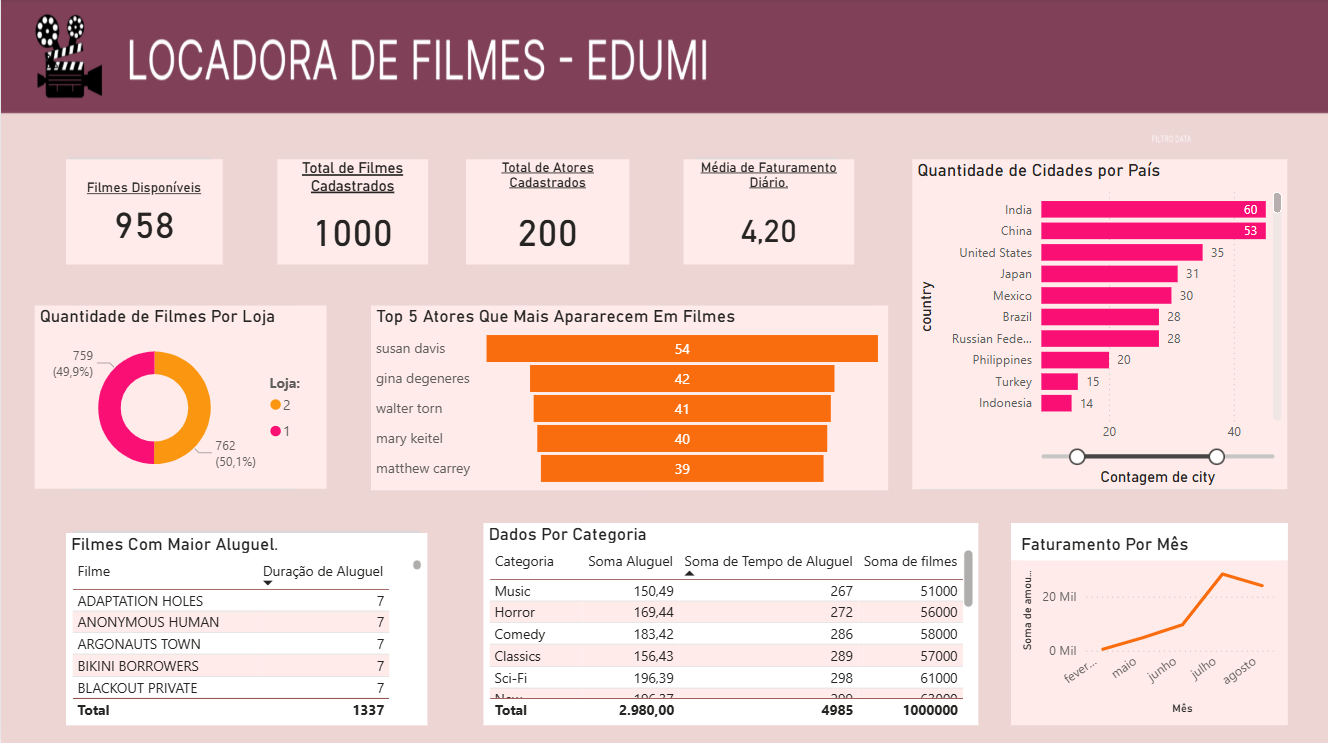

The dashboard page shown, as its layout file describes it:
{"tool":"powerbi","page":{"name":"LOCADORA","canvas":[1280,720],"ordinal":0},"visuals":[{"type":"card","title":"Total de Atores Cadastrados","fields":{"Values":["select","CountNonNull(edumi actor.actor_id)"]},"box":[448.7,155.1,157.8,101.5],"z":0},{"type":"card","title":"Total de Filmes Cadastrados","fields":{"Values":["Count(edumi film.film_id)"]},"box":[266.2,155.1,145.5,101.5],"z":1000},{"type":"card","title":"Filmes Disponíveis","fields":{"Values":["edumi inventory.qnt_Filme"]},"box":[63.1,155.1,150.9,101.5],"z":2000},{"type":"donutChart","title":"Quantidade de Filmes Por Loja","fields":{"Y":["edumi inventory.qnt_Filme"],"Category":["edumi inventory.store_id"]},"box":[32.9,297.1,281.4,177.1],"z":3000},{"type":"funnel","title":"Top 5 Atores Que Mais Apararecem Em Filmes","fields":{"Category":["edumi actor.full_name"],"Y":["edumi film_actor.DIST.FILME"]},"box":[356.8,296.4,499.5,178.4],"z":4000},{"type":"clusteredBarChart","title":"Quantidade de Cidades por País","fields":{"Category":["edumi country.country"],"Y":["CountNonNull(edumi city.city)"]},"box":[880,155.7,361.4,318.6],"z":5000},{"type":"tableEx","title":"Dados Por Categoria","fields":{"Values":["edumi category.name","Sum(edumi film.rental_rate)","Sum(edumi film.rental_duration)","Sum(edumi film.Film_qnt)"]},"box":[465.2,506.3,477.5,194.9],"z":6000},{"type":"tableEx","title":"Filmes Com Maior Aluguel.","fields":{"Values":["edumi film.title","Sum(edumi film.rental_duration)"]},"box":[63.1,516,348.5,185.2],"z":7000},{"type":"lineChart","title":"Faturamento Por Mês","fields":{"Y":["Sum(edumi payment.amount)"],"Category":["edumi payment.payment_date.Variation.Hierarquia de datas.Mês"]},"box":[974.3,506.3,267.6,194.9],"z":8000},{"type":"card","title":"Média de Faturamento Diário.","fields":{"Values":["Avg(edumi payment.amount)"]},"box":[658.7,155.1,164.7,101.5],"z":9000}]}

Visuals, with their boxes in screenshot pixels (x1, y1, x2, y2), scaled from the page's 1280x720 canvas onto the 1328x743 screenshot:
"Total de Atores Cadastrados" card: 466, 160, 629, 265
"Total de Filmes Cadastrados" card: 276, 160, 427, 265
"Filmes Disponíveis" card: 65, 160, 222, 265
"Quantidade de Filmes Por Loja" donutChart: 34, 307, 326, 489
"Top 5 Atores Que Mais Apararecem Em Filmes" funnel: 370, 306, 888, 490
"Quantidade de Cidades por País" clusteredBarChart: 913, 161, 1288, 489
"Dados Por Categoria" tableEx: 483, 522, 978, 724
"Filmes Com Maior Aluguel." tableEx: 65, 532, 427, 724
"Faturamento Por Mês" lineChart: 1011, 522, 1288, 724
"Média de Faturamento Diário." card: 683, 160, 854, 265
